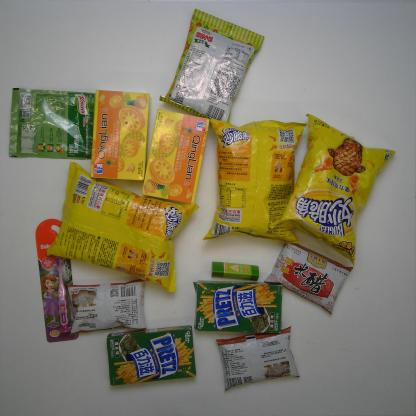Dessert: (140, 108, 209, 207), (90, 88, 151, 183), (107, 326, 197, 385), (193, 279, 282, 336)
Personal Hygiene: (34, 218, 81, 342)
Puffed Food: (46, 159, 200, 294), (270, 113, 396, 264), (203, 115, 305, 244), (158, 8, 264, 128)
Seasoner: (264, 239, 353, 314), (8, 85, 92, 161), (216, 326, 301, 392), (66, 278, 149, 333)
Stationery: (211, 260, 261, 281)
